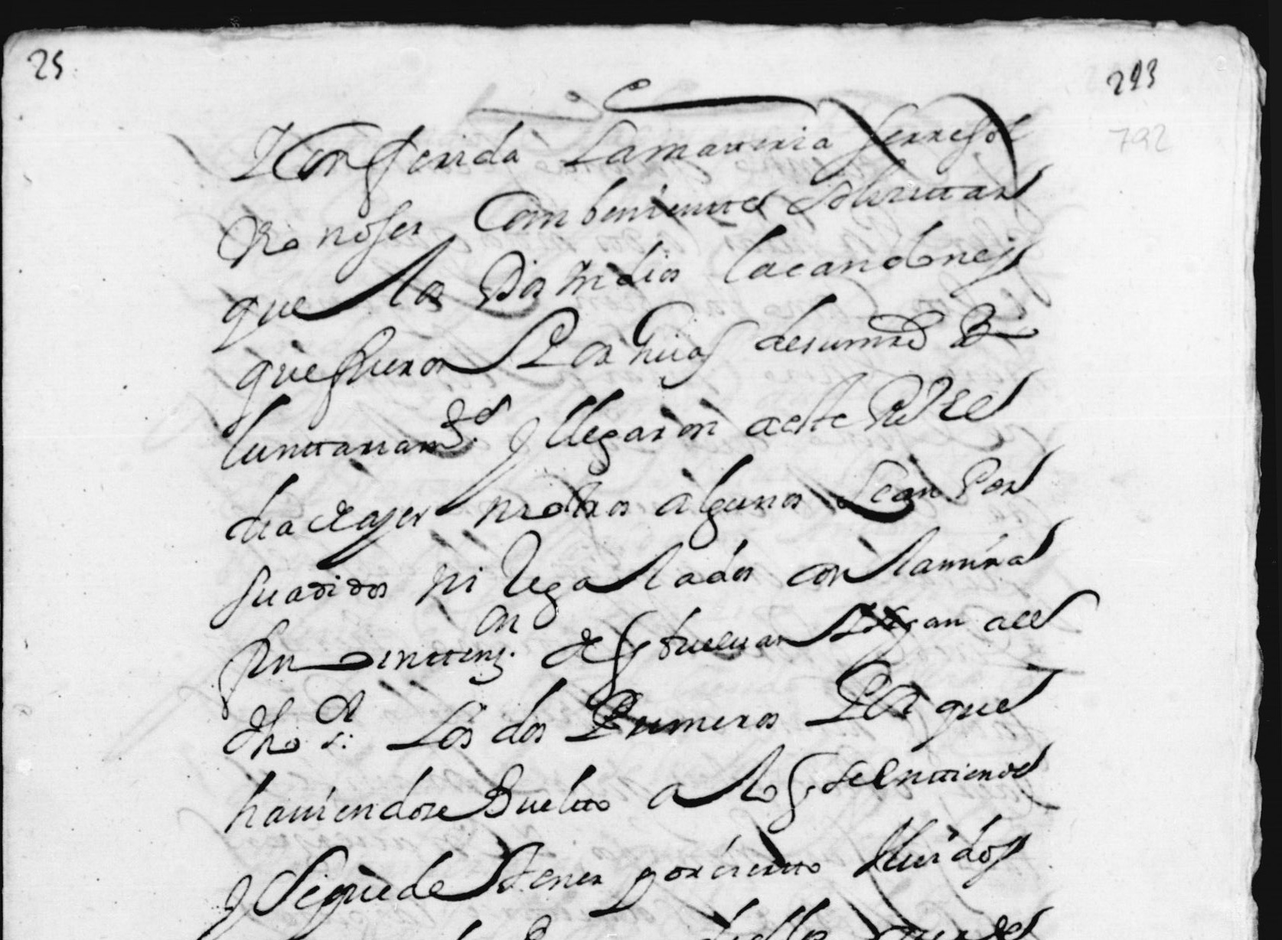lacandon: (723, 220, 1040, 298)
